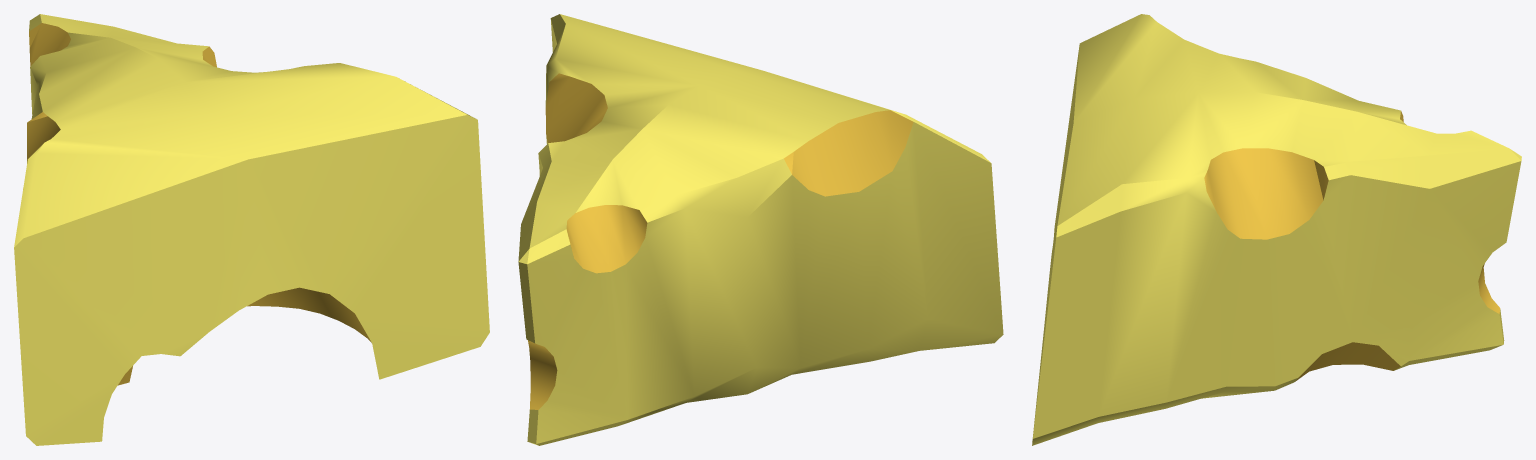
File: cheese.fbx
The picture shows the model from 3 angles, left to right: view 1: azimuth 30°, elevation 25°; view 2: azimuth 150°, elevation 25°; view 3: azimuth 270°, elevation 25°; orthographic projection.
Parts seen in each view (by area): view 1: LOW21__cl_Cheese_Rock2; view 2: LOW21__cl_Cheese_Rock2; view 3: LOW21__cl_Cheese_Rock2.
Part boxes in pixels (x1,y1,x2,y2): LOW21__cl_Cheese_Rock2: (14,14,489,445); LOW21__cl_Cheese_Rock2: (518,14,1003,445); LOW21__cl_Cheese_Rock2: (1032,14,1521,445).
Bounding box in the file's own units: 207 × 117 × 197.
